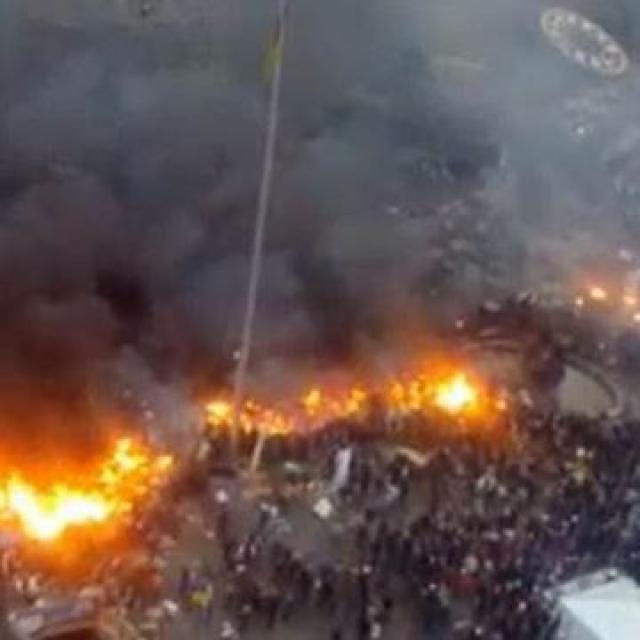Fire: (0, 453, 123, 553), (198, 386, 284, 442), (304, 372, 366, 434), (414, 371, 482, 424), (110, 431, 174, 478)
Smoke: (0, 7, 405, 374)
